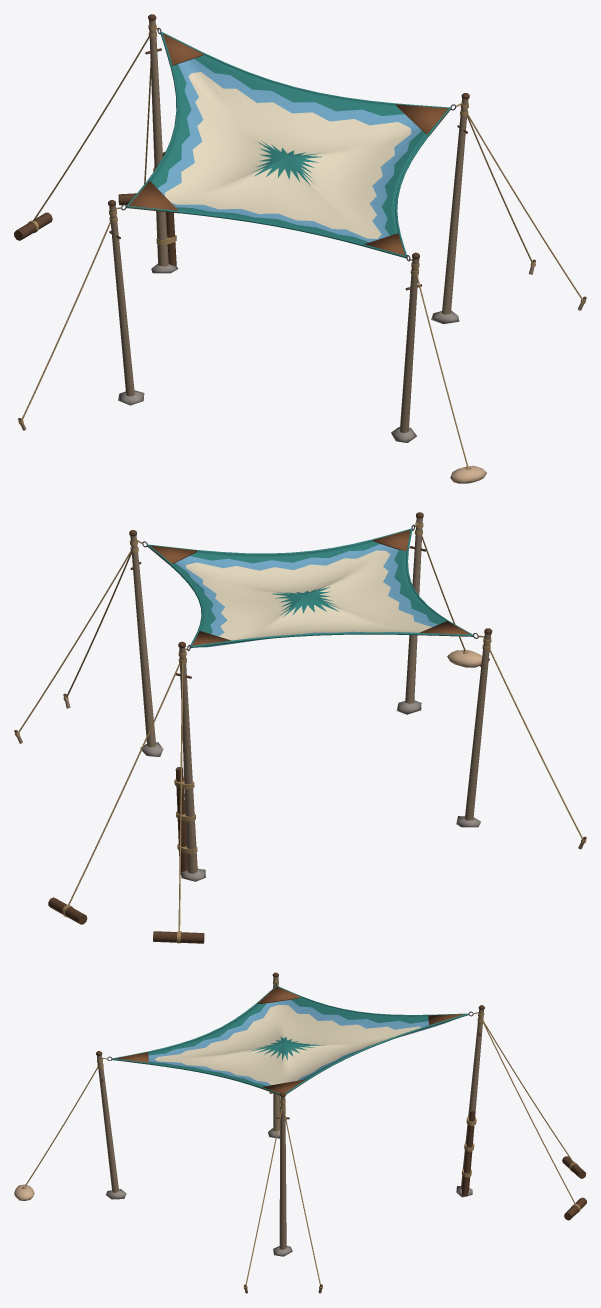
File: deco_tent_sail_banded.fbx
The picture shows the model from 3 angles, top to bottom: view 1: azimuth 30°, elevation 25°; view 2: azimuth 150°, elevation 25°; view 3: azimuth 270°, elevation 25°; orthographic projection. The views are drawn at different scales.
Parts seen in each view (by area): view 1: Tent_SailBanded_Canopy, Tent_SailBanded_Masts, Tent_SailBanded_Hem, Tent_SailBanded_Guys, Tent_SailBanded_Anchors, Tent_SailBanded_Rigging; view 2: Tent_SailBanded_Canopy, Tent_SailBanded_Masts, Tent_SailBanded_Hem, Tent_SailBanded_Guys, Tent_SailBanded_Anchors, Tent_SailBanded_Rigging; view 3: Tent_SailBanded_Canopy, Tent_SailBanded_Masts, Tent_SailBanded_Hem, Tent_SailBanded_Guys, Tent_SailBanded_Anchors, Tent_SailBanded_Rigging.
Part boxes in pixels (box(x1,y1,x2,y2)): Tent_SailBanded_Canopy: box(150, 55, 426, 243); Tent_SailBanded_Masts: box(108, 14, 469, 442); Tent_SailBanded_Hem: box(126, 31, 450, 258); Tent_SailBanded_Guys: box(21, 36, 582, 466); Tent_SailBanded_Anchors: box(14, 193, 586, 483); Tent_SailBanded_Rigging: box(108, 24, 468, 290); Tent_SailBanded_Canopy: box(172, 540, 446, 647); Tent_SailBanded_Masts: box(129, 512, 492, 881); Tent_SailBanded_Hem: box(147, 528, 473, 647); Tent_SailBanded_Guys: box(18, 535, 582, 931); Tent_SailBanded_Anchors: box(14, 650, 586, 943); Tent_SailBanded_Rigging: box(129, 522, 491, 853); Tent_SailBanded_Canopy: box(148, 997, 458, 1086); Tent_SailBanded_Masts: box(96, 972, 484, 1256); Tent_SailBanded_Hem: box(112, 985, 468, 1095); Tent_SailBanded_Guys: box(24, 1021, 575, 1284); Tent_SailBanded_Anchors: box(14, 1092, 586, 1293); Tent_SailBanded_Rigging: box(97, 980, 484, 1177).
Size of the model in its own units: 1130 by 487 by 1347.
